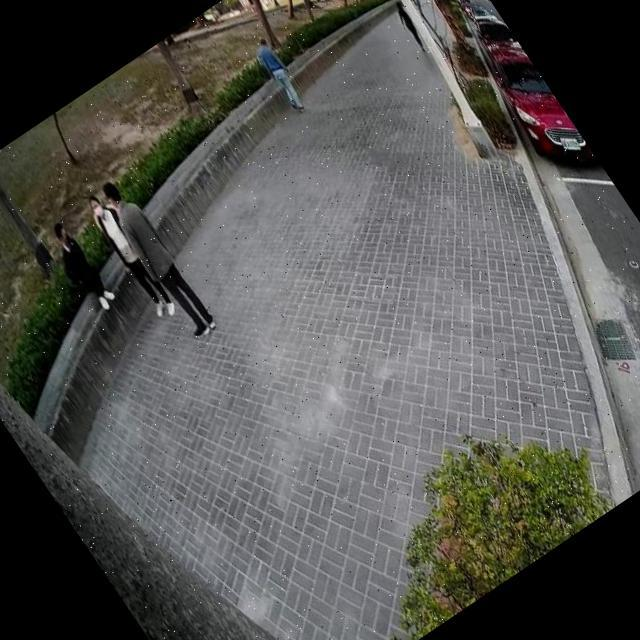person: (88, 167, 222, 344), (74, 182, 186, 326), (34, 212, 124, 320), (244, 30, 314, 118), (385, 0, 432, 56)
